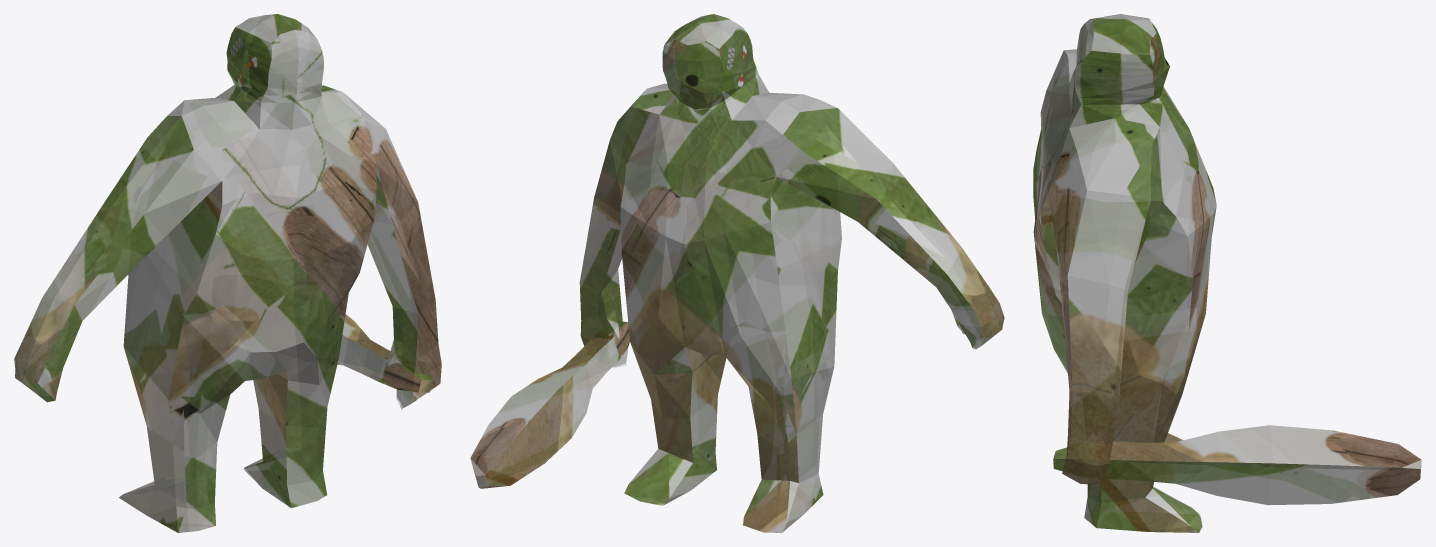
The model's file is Enemigo210.obj.
3 renders of one model, left to right at view 1: azimuth 30°, elevation 25°; view 2: azimuth 150°, elevation 25°; view 3: azimuth 270°, elevation 25°, orthographic. The views are drawn at different scales.
Visible parts, largest first — view 1: Cube; view 2: Cube; view 3: Cube.
Part boxes in pixels (<box>): Cube: <box>14,14,441,532</box>; Cube: <box>470,14,1004,532</box>; Cube: <box>1033,14,1421,532</box>.
Bounding box in the file's own units: 2.47 × 2.69 × 1.91.
1 material, 1 textured.
